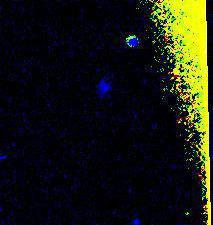star: (174, 198, 204, 225)
